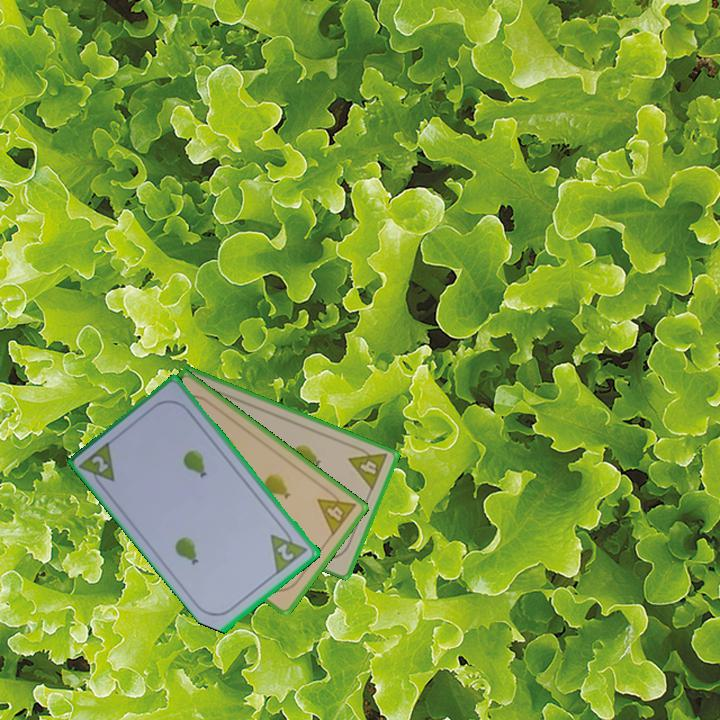2p: (76, 437, 119, 493), (274, 540, 298, 564)
4p: (314, 484, 359, 539), (345, 442, 390, 493)
